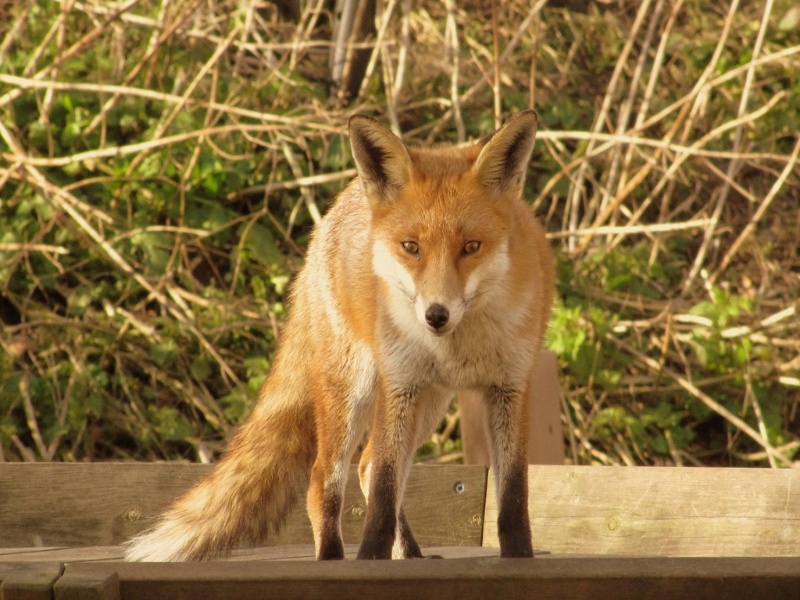fox: (125, 98, 557, 565)
